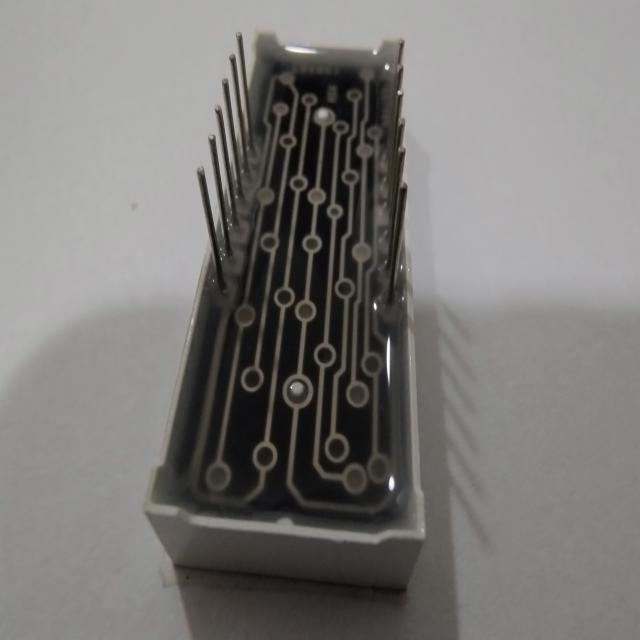7_segments_4_digits: (142, 20, 433, 606)
